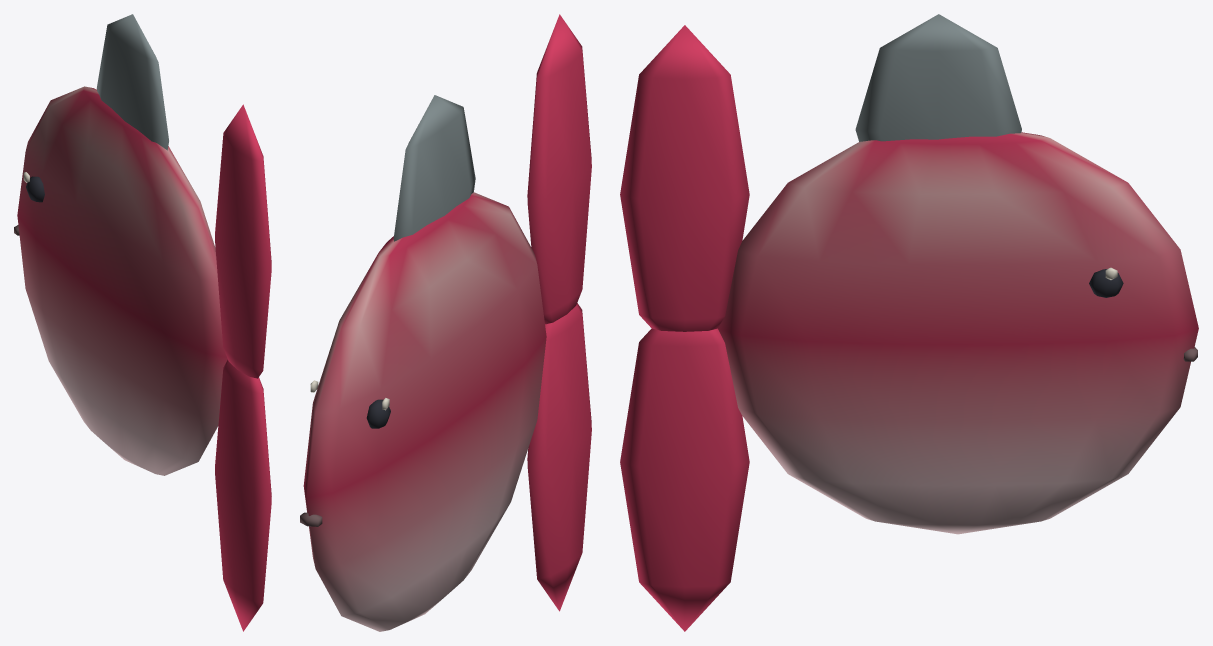
The model's file is fish_opah.glb.
3 renders of one model, left to right at view 1: azimuth 30°, elevation 25°; view 2: azimuth 150°, elevation 25°; view 3: azimuth 270°, elevation 25°, orthographic. The views are drawn at different scales.
Parts seen in each view (by area): view 1: Body, Tail; view 2: Body, Tail; view 3: Body, Tail.
Part boxes in pixels (left/top/right/bottom): Body: left=14, top=14, right=227, bottom=475; Tail: left=215, top=104, right=271, bottom=631; Body: left=300, top=95, right=546, bottom=631; Tail: left=527, top=14, right=591, bottom=611; Body: left=718, top=14, right=1198, bottom=534; Tail: left=620, top=25, right=749, bottom=631.
Bounding box in the file's own units: 0.1388 × 1.06 × 0.9.
